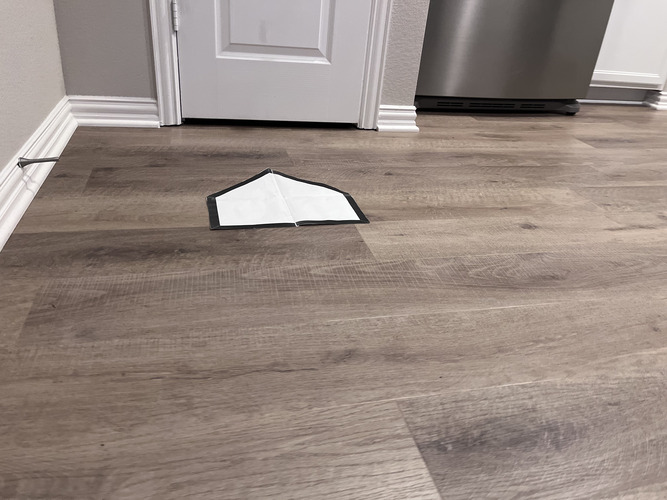homeplate: (208, 169, 369, 230)
